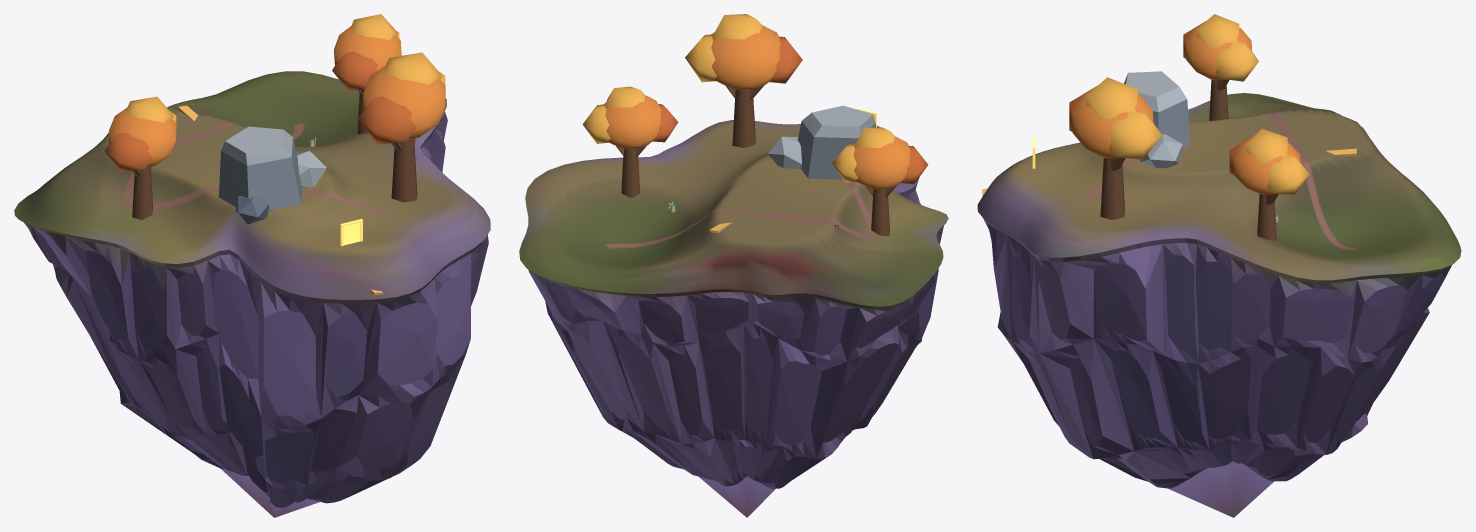
The model's file is dir.glb.
3 views of the same model, side by side, from view 1: azimuth 30°, elevation 25°; view 2: azimuth 150°, elevation 25°; view 3: azimuth 270°, elevation 25° (orthographic). The views are drawn at different scales.
Parts seen in each view (by area): view 1: ground, remote_props; view 2: ground, remote_props; view 3: ground, remote_props.
Boxes of the visible parts, x1,y1,x2,y2 form: ground: [14, 71, 490, 517]; remote_props: [104, 14, 445, 224]; ground: [519, 120, 948, 517]; remote_props: [582, 14, 928, 235]; ground: [977, 93, 1461, 517]; remote_props: [1069, 14, 1309, 241].
Size of the model in its own units: 34.18 by 37.77 by 35.48.
